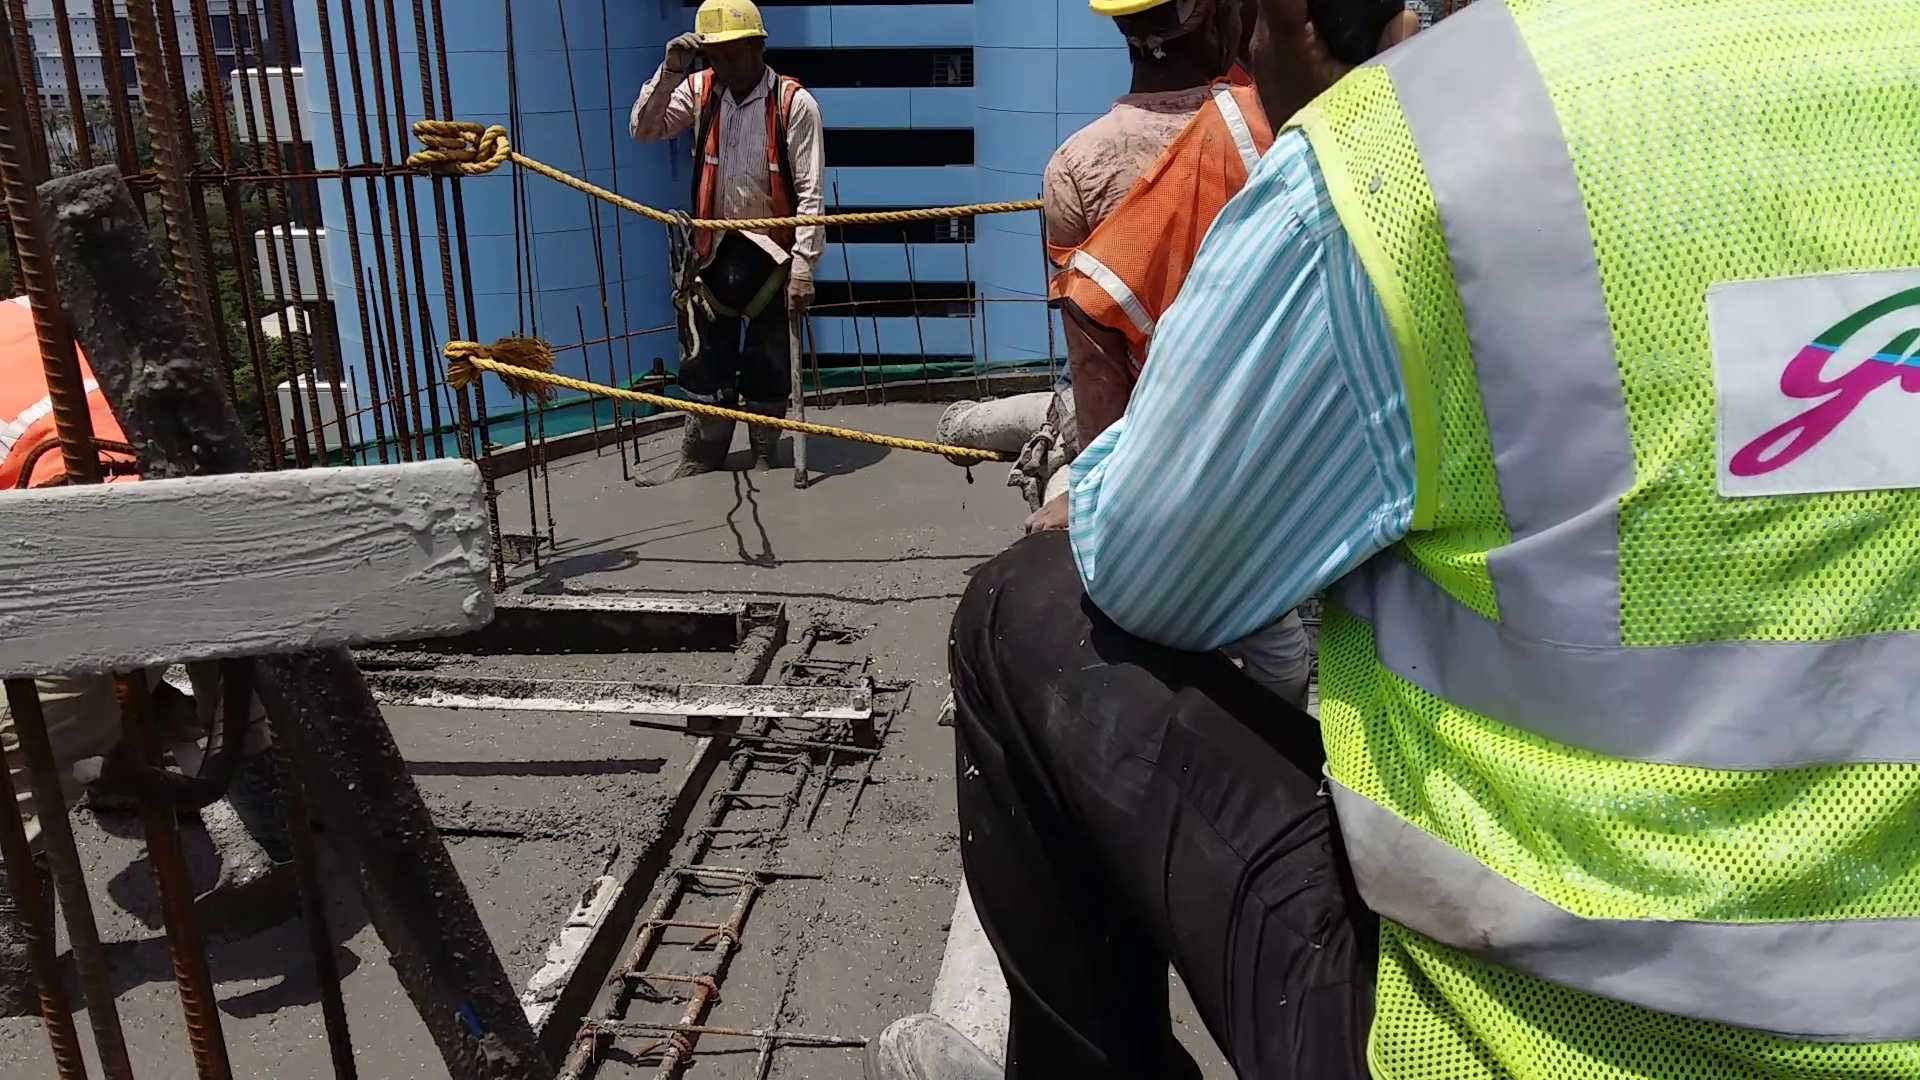SAFE: (676, 1, 800, 249)
